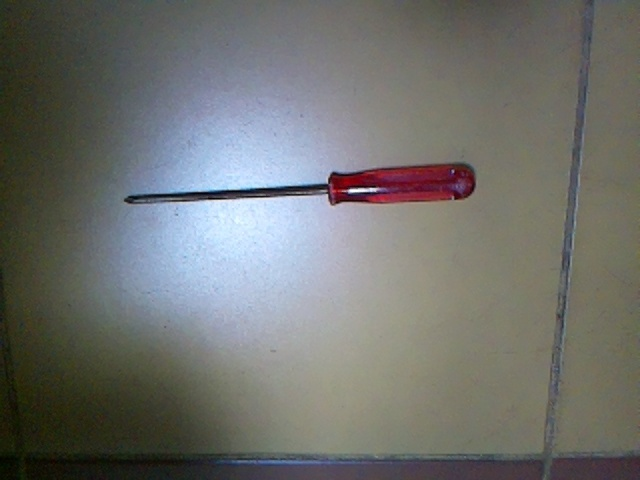redskrew: (123, 163, 481, 221)
